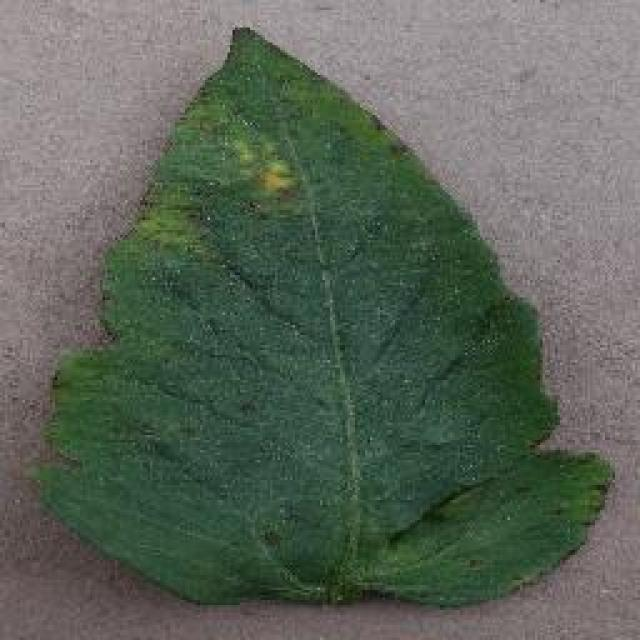Tomato bacterial spot leaf: (17, 11, 620, 622)
